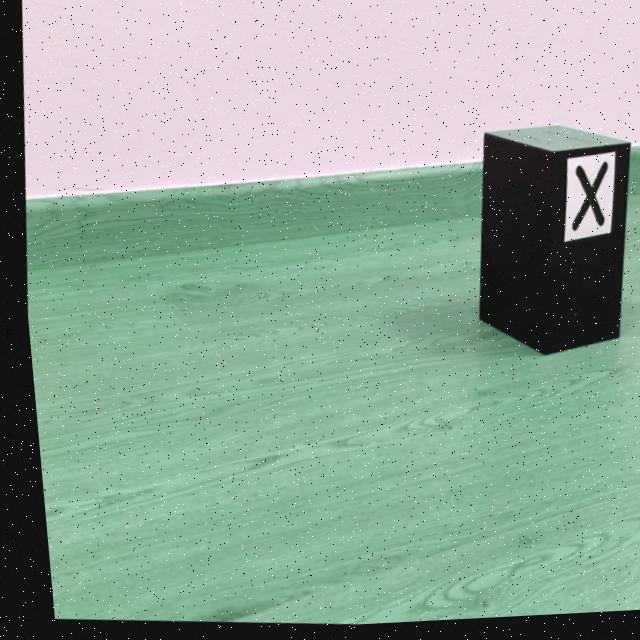X: (567, 168, 604, 237)
